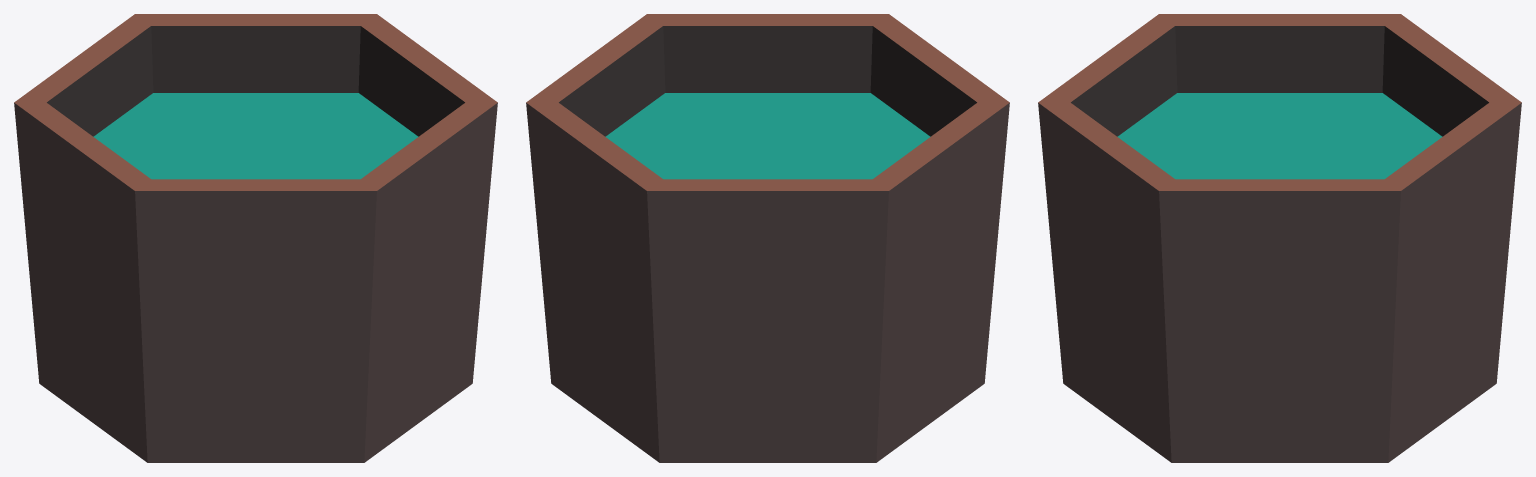
File: TB_Prop_Bucket_Water_B.FBX
3 renders of one model, left to right at view 1: azimuth 30°, elevation 25°; view 2: azimuth 150°, elevation 25°; view 3: azimuth 270°, elevation 25°, orthographic.
Parts seen in each view (by area): view 1: TB_Prop_Bucket_Water_B; view 2: TB_Prop_Bucket_Water_B; view 3: TB_Prop_Bucket_Water_B.
Boxes of the visible parts, <box> form: TB_Prop_Bucket_Water_B: <box>14,14,497,462</box>; TB_Prop_Bucket_Water_B: <box>526,14,1009,462</box>; TB_Prop_Bucket_Water_B: <box>1038,14,1521,462</box>.
Size of the model in its own units: 0.4708 by 0.3485 by 0.5436.
